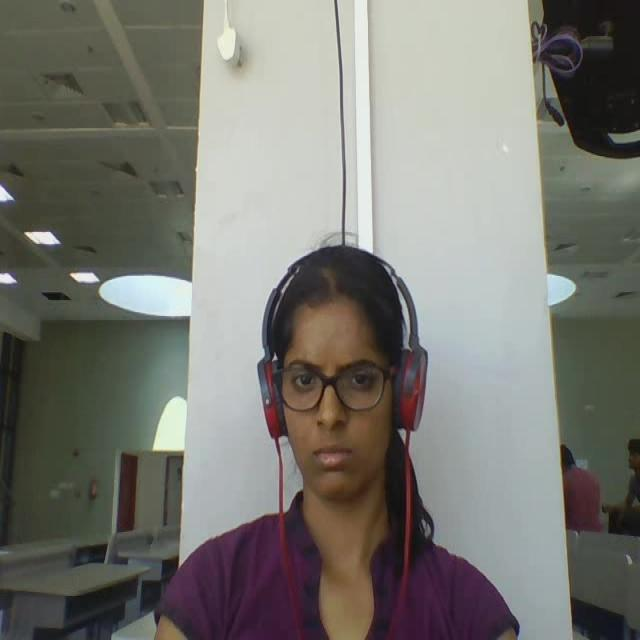Engaged: (245, 240, 440, 514)
